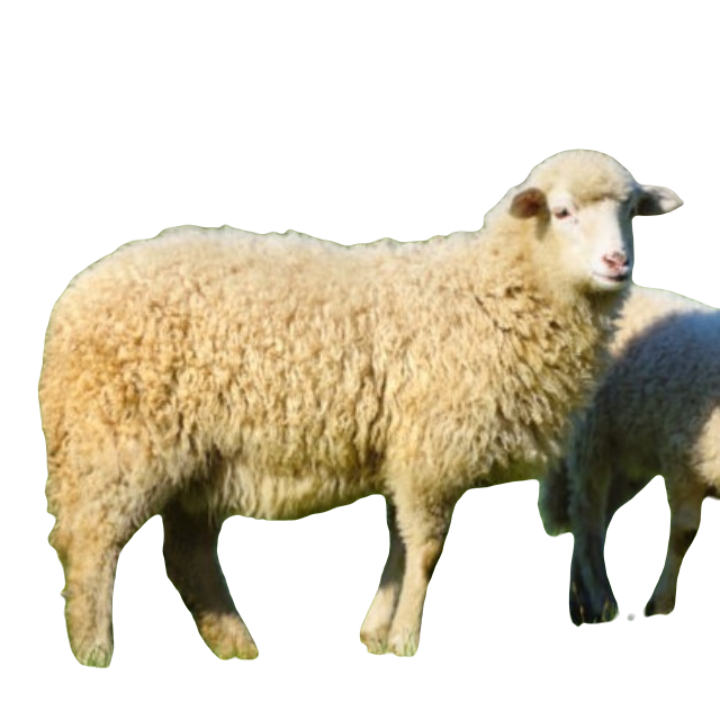Sheep: (30, 144, 685, 670)
